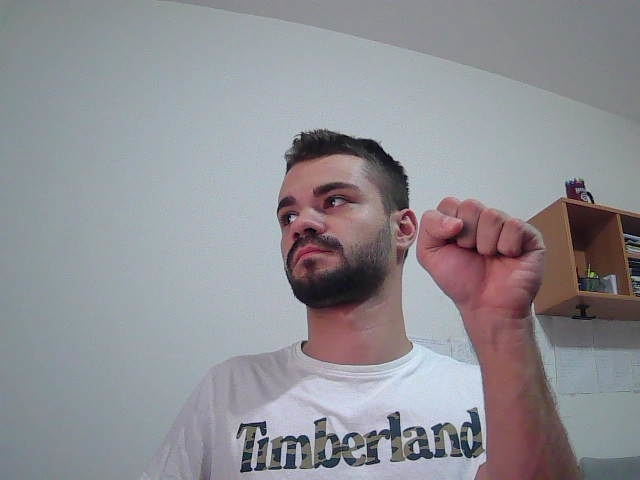a: (412, 184, 568, 456)
